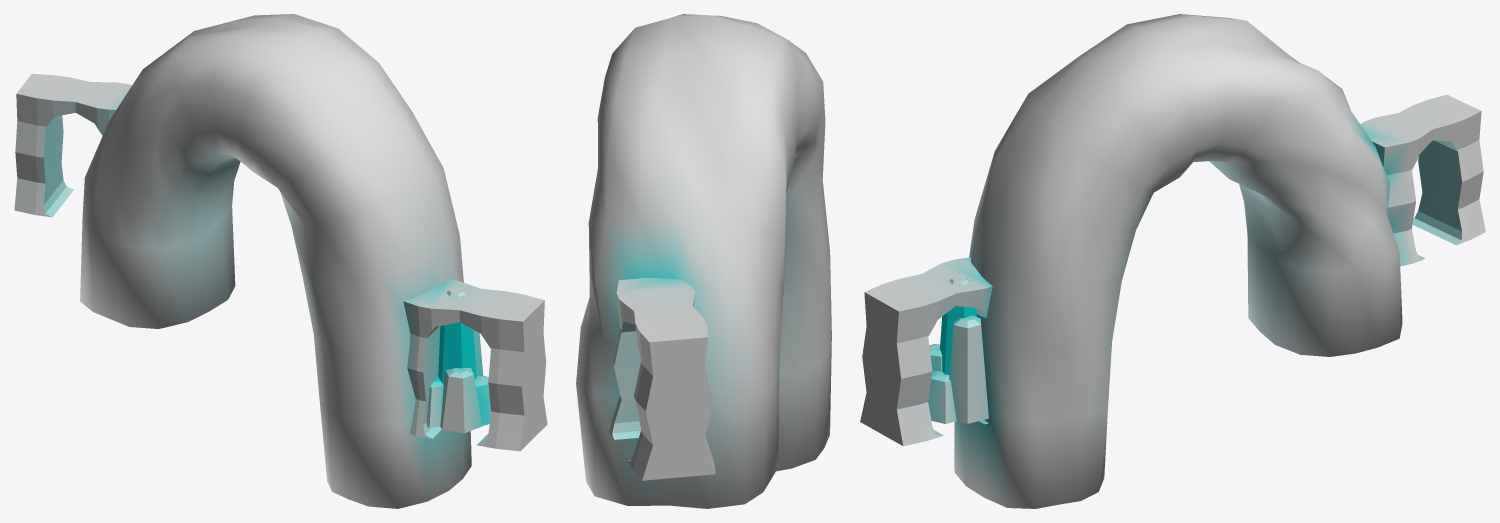
Rendered from arch-islet-gap.glb.
The picture shows the model from 3 angles, left to right: view 1: azimuth 30°, elevation 25°; view 2: azimuth 150°, elevation 25°; view 3: azimuth 270°, elevation 25°; orthographic projection. The views are drawn at different scales.
Visible parts, largest first — view 1: shell, dressing; view 2: shell, dressing; view 3: shell, dressing.
Boxes of the visible parts, x1=… form: shell: x1=80, y1=14, x2=471, y2=508; dressing: x1=14, y1=73, x2=547, y2=451; shell: x1=576, y1=14, x2=831, y2=508; dressing: x1=609, y1=278, x2=715, y2=480; shell: x1=954, y1=14, x2=1402, y2=508; dressing: x1=860, y1=94, x2=1485, y2=446.
Size of the model in its own units: 9.16 by 12.91 by 17.37.
